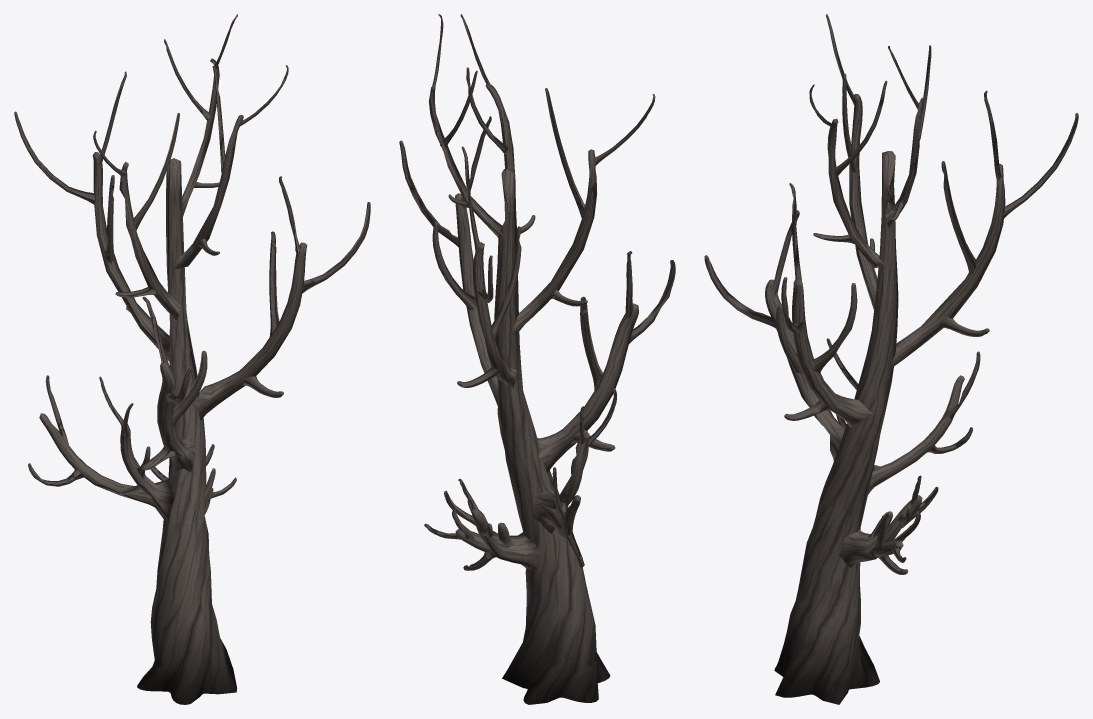
File: twist4.glb
3 renders of one model, left to right at view 1: azimuth 30°, elevation 25°; view 2: azimuth 150°, elevation 25°; view 3: azimuth 270°, elevation 25°, orthographic. The views are drawn at different scales.
Parts seen in each view (by area): view 1: TwistedTree_4; view 2: TwistedTree_4; view 3: TwistedTree_4.
Part boxes in pixels (x1,y1,x2,y2): TwistedTree_4: (14,14,370,704); TwistedTree_4: (399,14,675,704); TwistedTree_4: (704,14,1078,704).
Bounding box in the file's own units: 7.54 × 17.55 × 8.79.
1 material, 1 textured.
